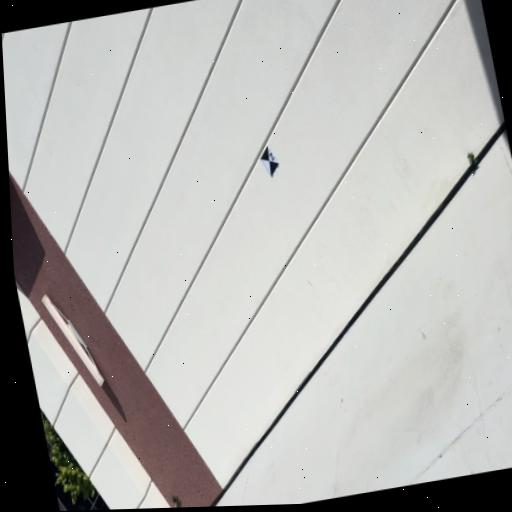target7: (260, 145, 279, 177)
